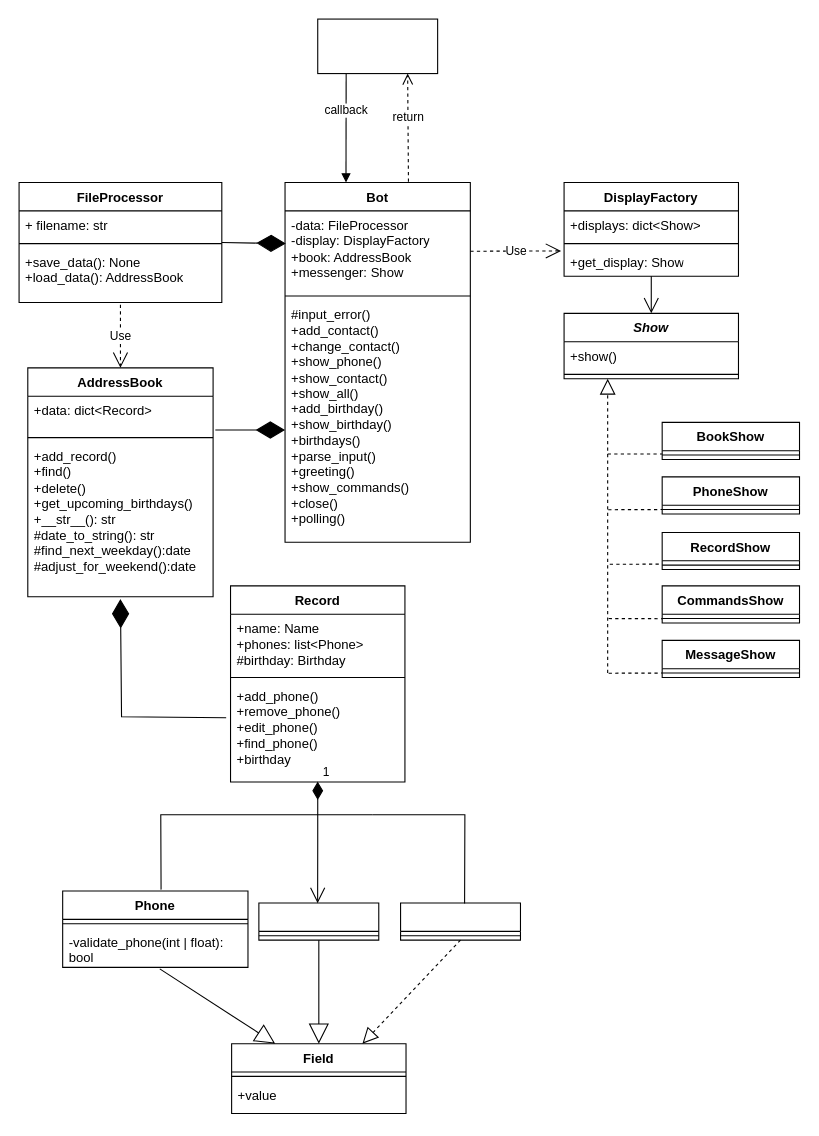
Some shapes in this 819 by 1136 pixel diagram are drawn without their labels. The centre of each missing label's shape, as x and y in pixels:
"Birthday" goes at pixel 318 921.
"Name" goes at pixel 459 921.
"User" goes at pixel 377 46.
